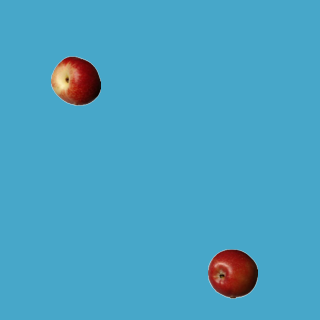Apple Braeburn: (207, 248, 257, 298)
Nectarine: (50, 55, 100, 105)
